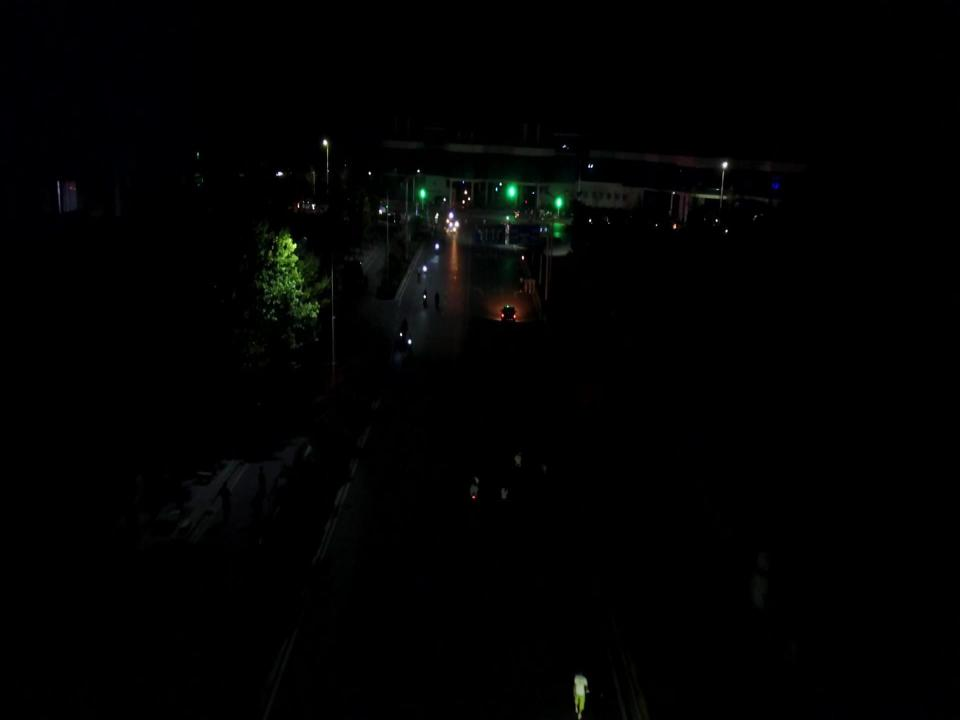car: (499, 307, 517, 324)
